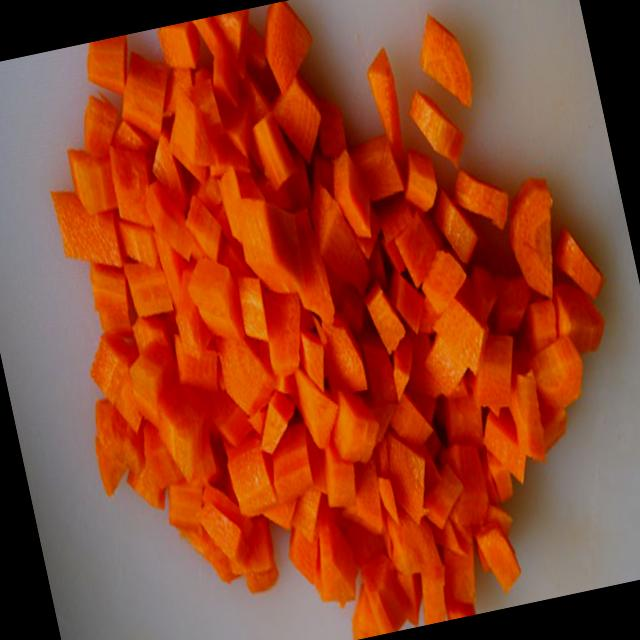ca rot: (52, 2, 604, 640), (422, 18, 472, 107), (412, 92, 464, 165)
